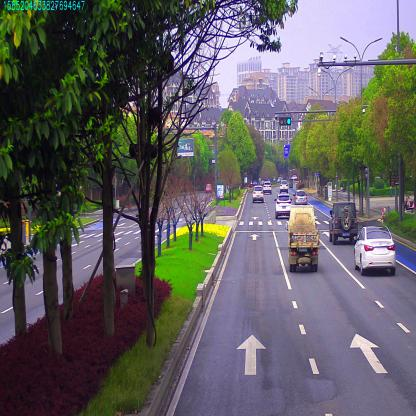traffic-light: (277, 117, 290, 126)
